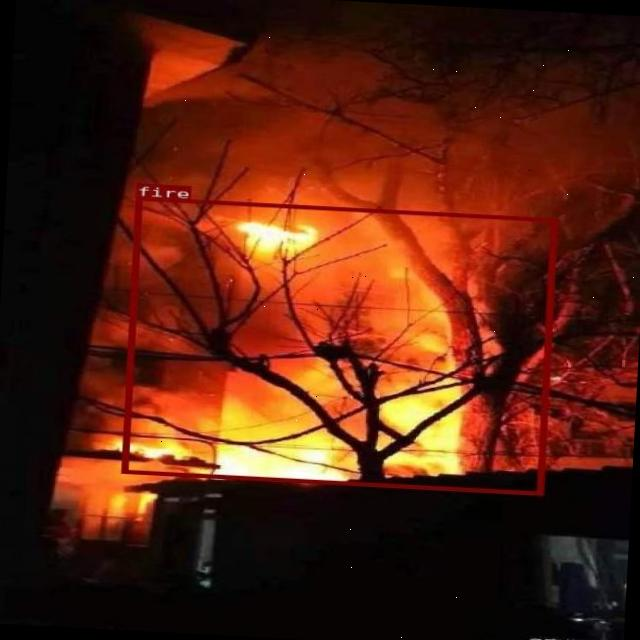fire: (120, 196, 556, 494)
